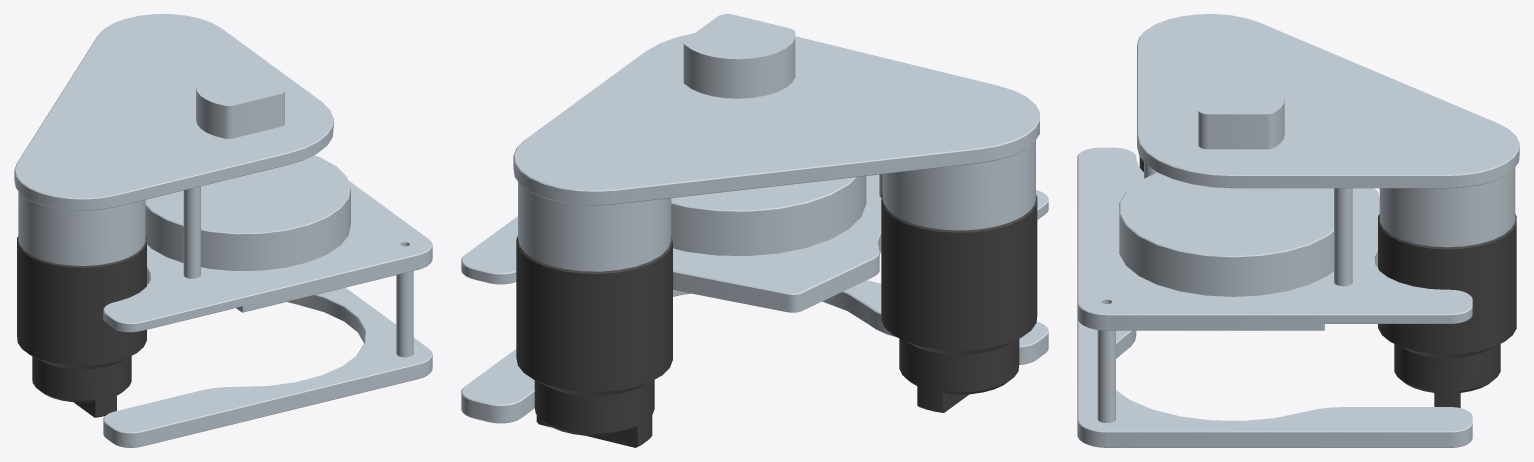
Rendered from SwerveModule.glb.
The picture shows the model from 3 angles, left to right: view 1: azimuth 30°, elevation 25°; view 2: azimuth 150°, elevation 25°; view 3: azimuth 270°, elevation 25°; orthographic projection. The views are drawn at different scales.
Visible parts, largest first — view 1: MK4i Module v1; view 2: MK4i Module v1; view 3: MK4i Module v1.
Part boxes in pixels (x1=…): MK4i Module v1: x1=14, y1=14, x2=432, y2=447; MK4i Module v1: x1=461, y1=14, x2=1048, y2=447; MK4i Module v1: x1=1077, y1=14, x2=1519, y2=447.
Bounding box in the file's own units: 0.19 × 0.1341 × 0.19.
